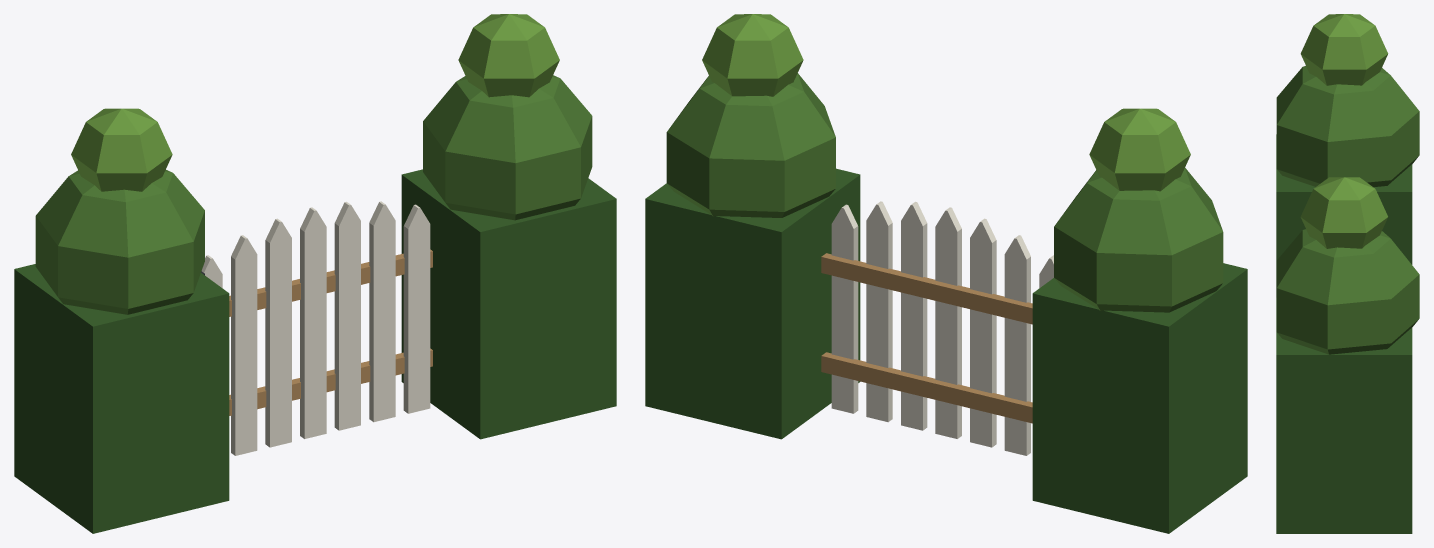
File: boxhedge_gate.glb
3 renders of one model, left to right at view 1: azimuth 30°, elevation 25°; view 2: azimuth 150°, elevation 25°; view 3: azimuth 270°, elevation 25°, orthographic. The views are drawn at different scales.
Parts seen in each view (by area): view 1: fence_boxhedge_gate; view 2: fence_boxhedge_gate; view 3: fence_boxhedge_gate.
Part boxes in pixels (x1=…): fence_boxhedge_gate: x1=14, y1=14, x2=616, y2=533; fence_boxhedge_gate: x1=645, y1=14, x2=1247, y2=533; fence_boxhedge_gate: x1=1276, y1=14, x2=1419, y2=533.
Size of the model in its own units: 2.43 by 1.65 by 0.6524.
